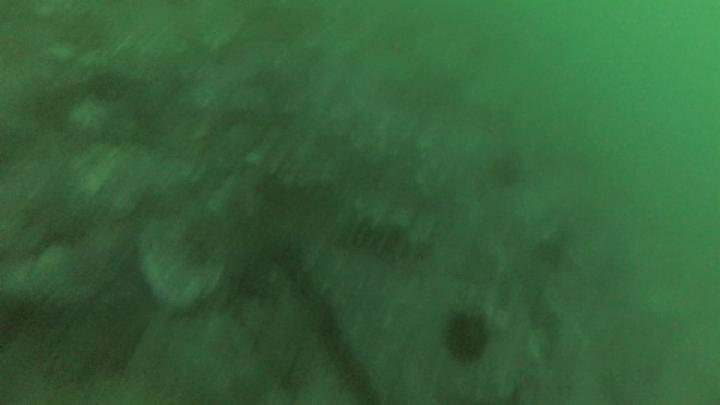echinus: (448, 316, 488, 360)
holothurian: (340, 216, 419, 263)
